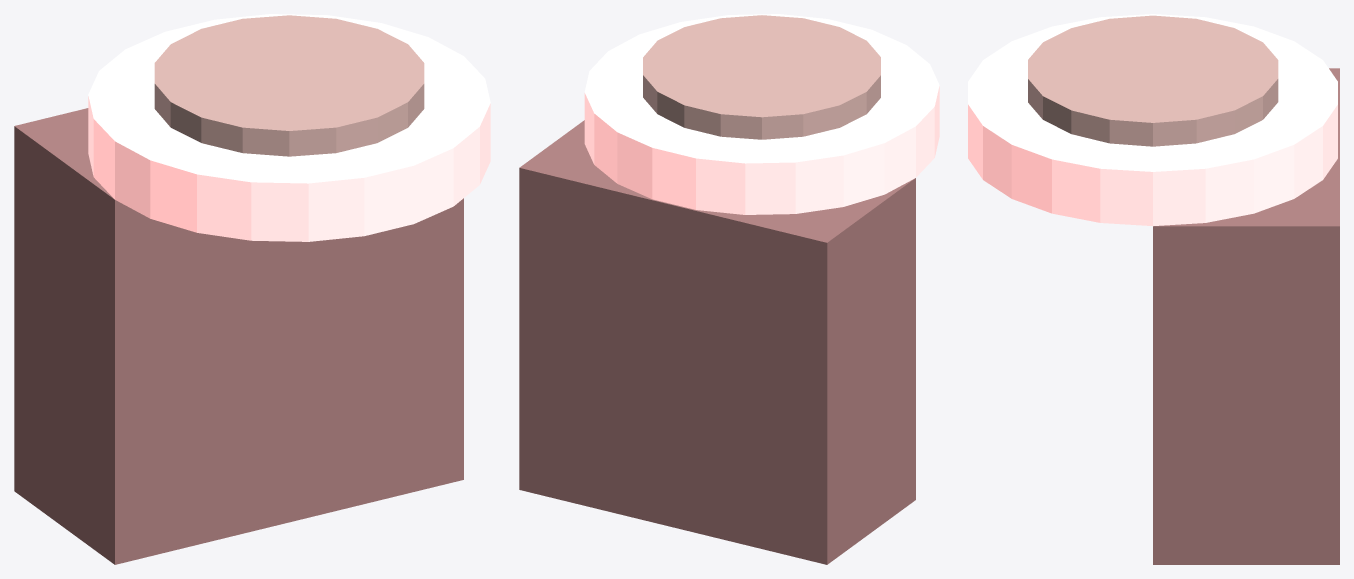
The model's file is Bounce_VerticalSlab.glb.
3 renders of one model, left to right at view 1: azimuth 30°, elevation 25°; view 2: azimuth 150°, elevation 25°; view 3: azimuth 270°, elevation 25°, orthographic. The views are drawn at different scales.
Visible parts, largest first — view 1: Bounce_VerticalSlab_body, bounce_base.003, bounce_fill_ring.003; view 2: Bounce_VerticalSlab_body, bounce_base.003, bounce_fill_ring.003; view 3: Bounce_VerticalSlab_body, bounce_base.003, bounce_fill_ring.003.
Part boxes in pixels (x1,y1,x2,y2): Bounce_VerticalSlab_body: [14, 108, 463, 564]; bounce_base.003: [88, 14, 490, 241]; bounce_fill_ring.003: [154, 15, 424, 156]; Bounce_VerticalSlab_body: [519, 120, 915, 564]; bounce_base.003: [584, 14, 939, 214]; bounce_fill_ring.003: [643, 15, 880, 139]; Bounce_VerticalSlab_body: [1153, 68, 1339, 564]; bounce_base.003: [968, 14, 1337, 226]; bounce_fill_ring.003: [1028, 15, 1278, 146].
Size of the model in its own units: 1 by 1.23 by 0.9949.
